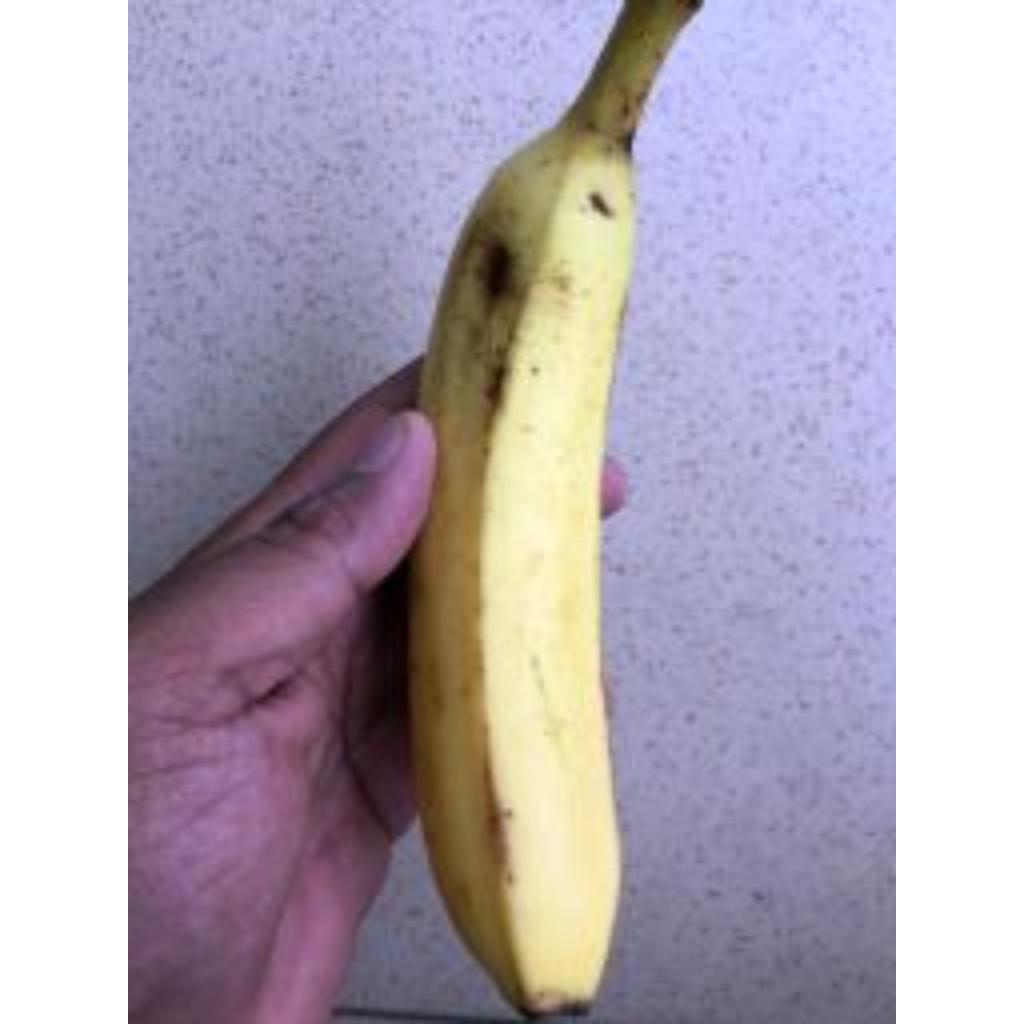banana: (404, 0, 708, 1024)
